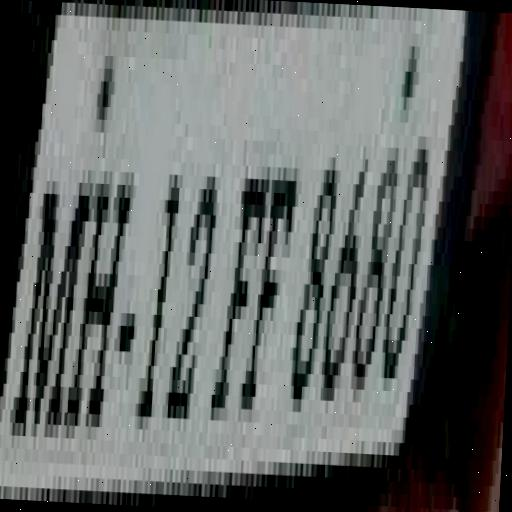number plate: (0, 13, 499, 511)
